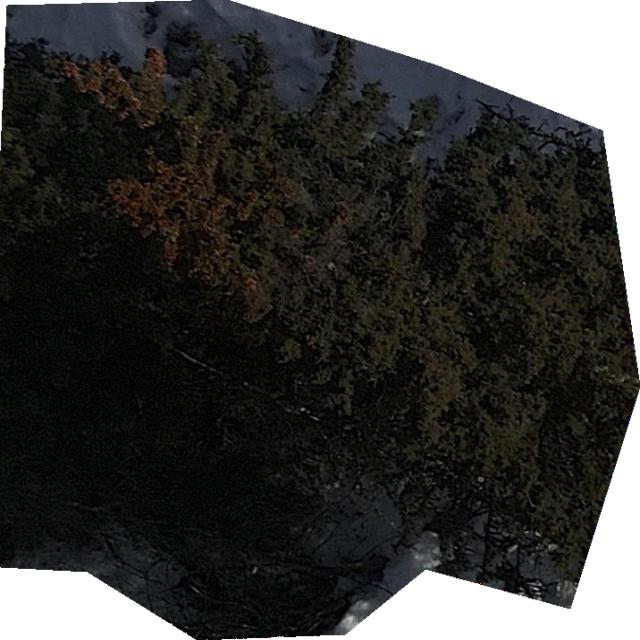pine: (0, 0, 639, 639)
